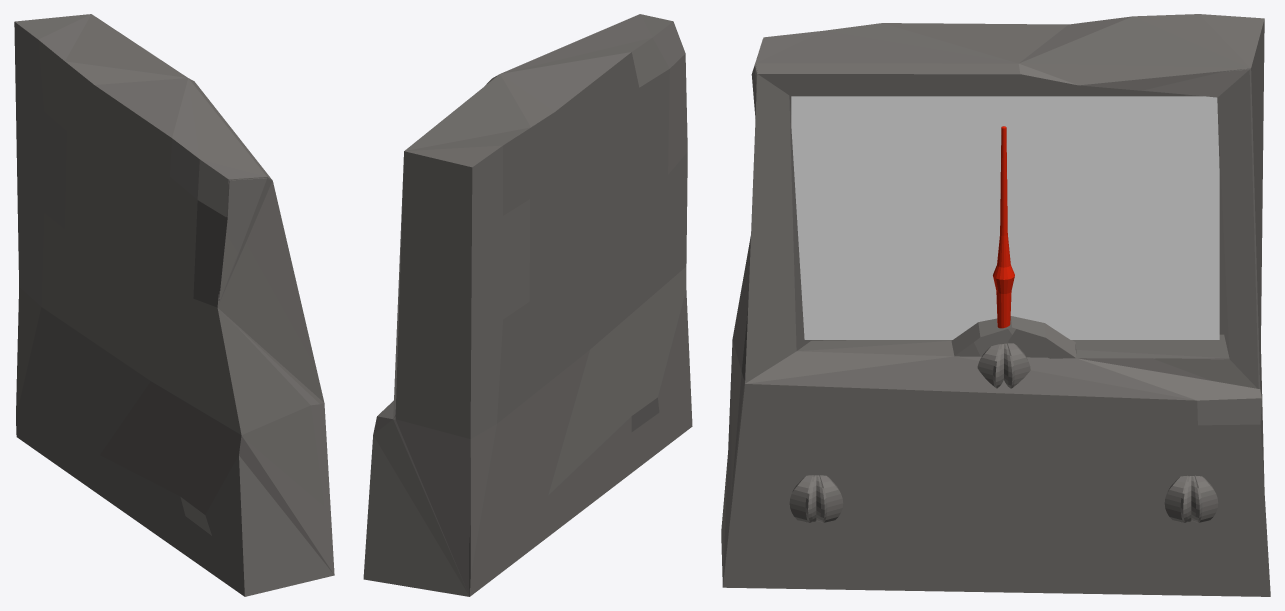
The model's file is voltMeter.fbx.
The picture shows the model from 3 angles, left to right: view 1: azimuth 30°, elevation 25°; view 2: azimuth 150°, elevation 25°; view 3: azimuth 270°, elevation 25°; orthographic projection. The views are drawn at different scales.
Visible parts, largest first — view 1: Cube.007; view 2: Cube.007; view 3: Cube.007, Plane.001, Cylinder.016, Болт.005, Болт.004, Болт.003.
Boxes of the visible parts, x1,y1,x2,y2 form: Cube.007: (14,14,334,596); Cube.007: (363,14,692,596); Cube.007: (721,14,1270,596); Plane.001: (791,96,1219,339); Cylinder.016: (993,126,1014,328); Болт.005: (789,475,843,522); Болт.004: (1164,475,1218,522); Болт.003: (977,343,1030,388).
Bounding box in the file's own units: 0.9819 × 3.21 × 3.08.
3 materials, 1 textured.
